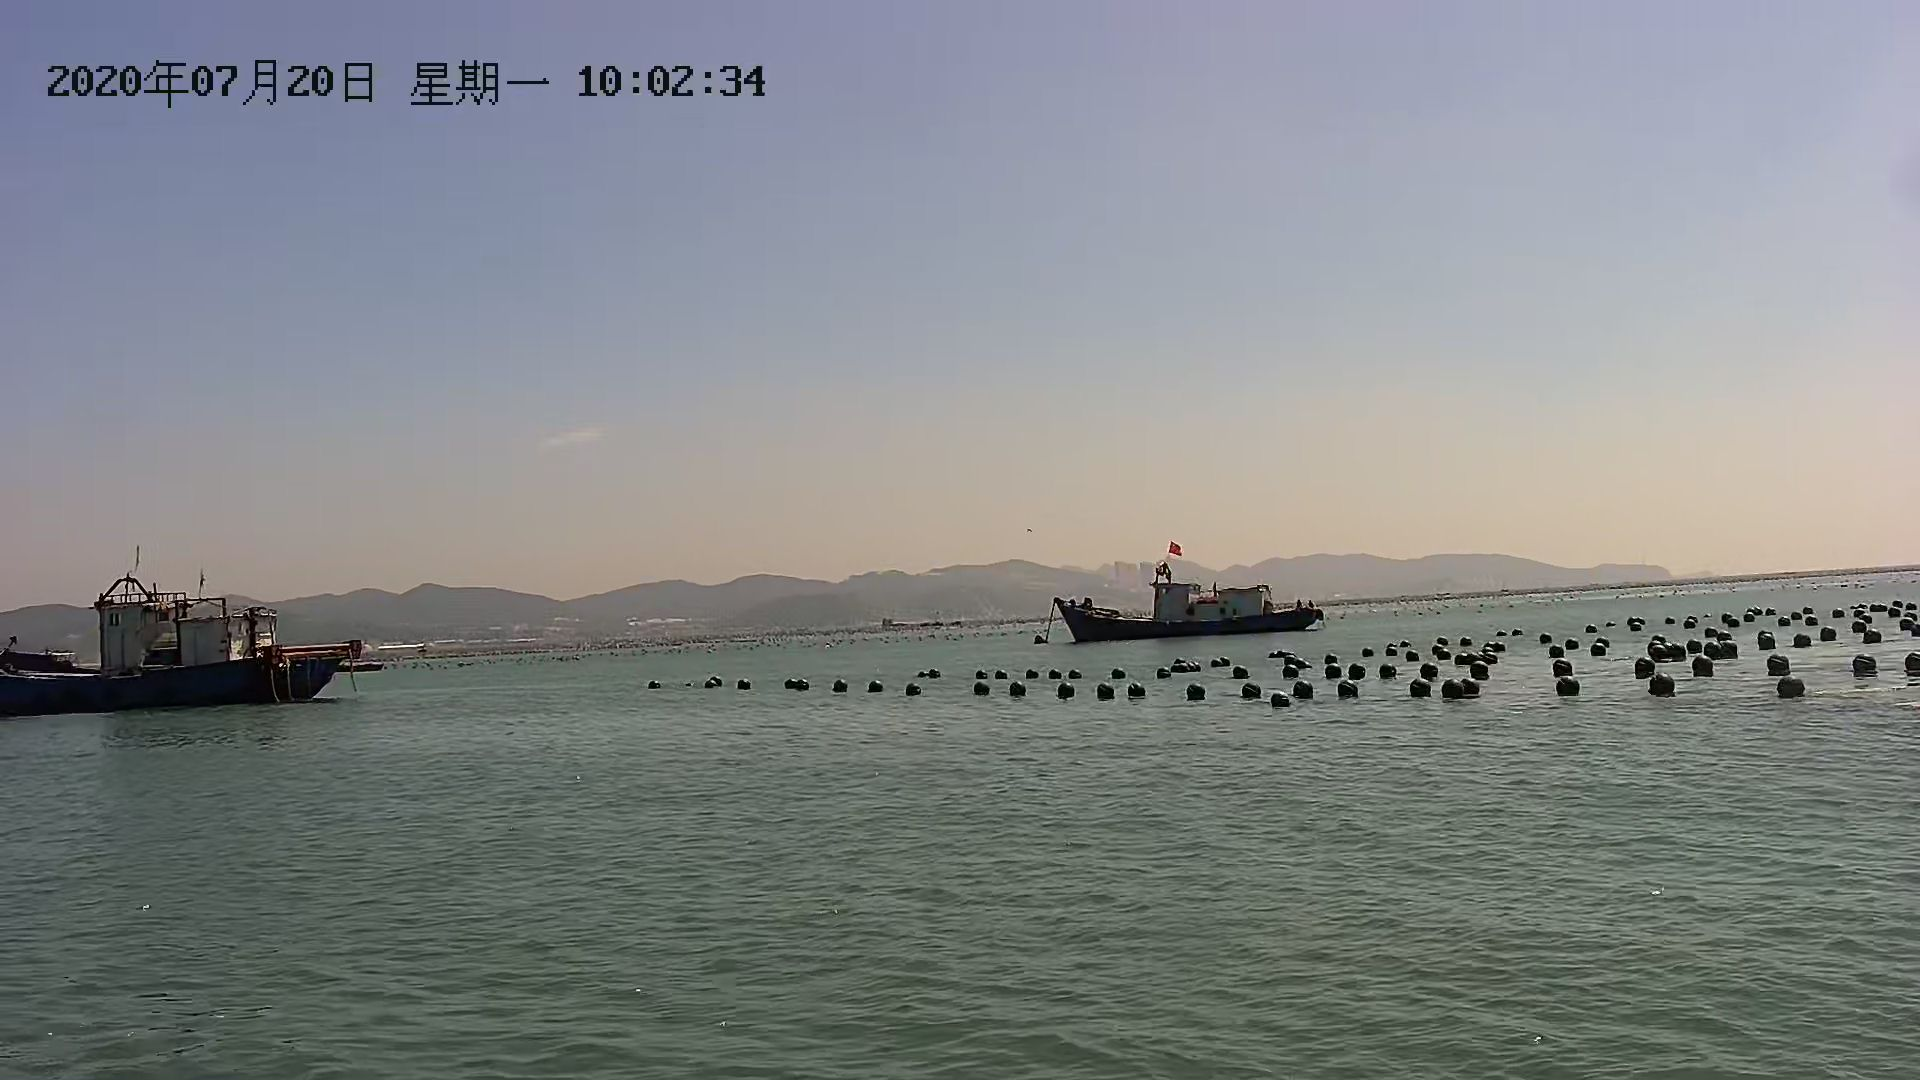ball: (1850, 650, 1882, 678), (1774, 675, 1807, 702), (1647, 670, 1677, 698), (1443, 678, 1468, 704), (1290, 676, 1315, 702), (1124, 678, 1149, 703), (1407, 675, 1433, 698), (1333, 683, 1364, 702), (1183, 682, 1207, 704), (1553, 675, 1577, 696), (1238, 680, 1261, 702), (1054, 682, 1077, 702), (1091, 684, 1116, 702)
ship: (1, 584, 357, 719), (1058, 570, 1327, 646)
